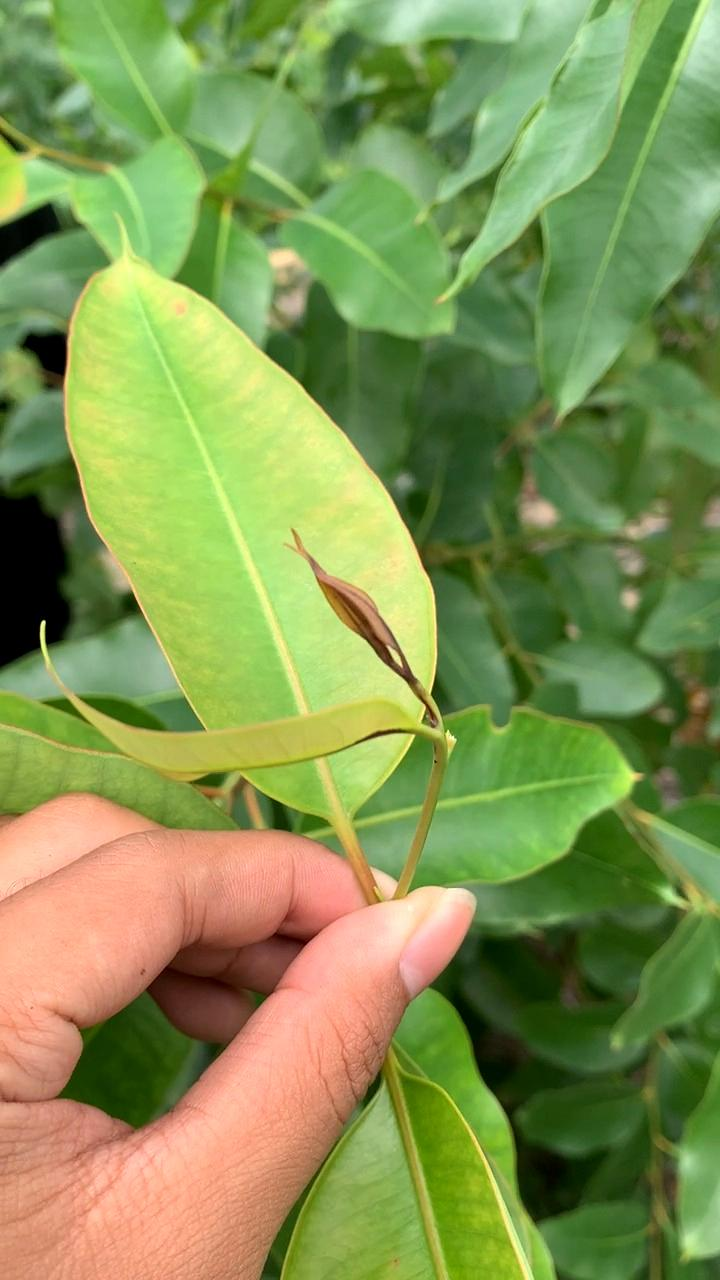Helopeltis-Withered Sprout: (279, 504, 460, 756)
